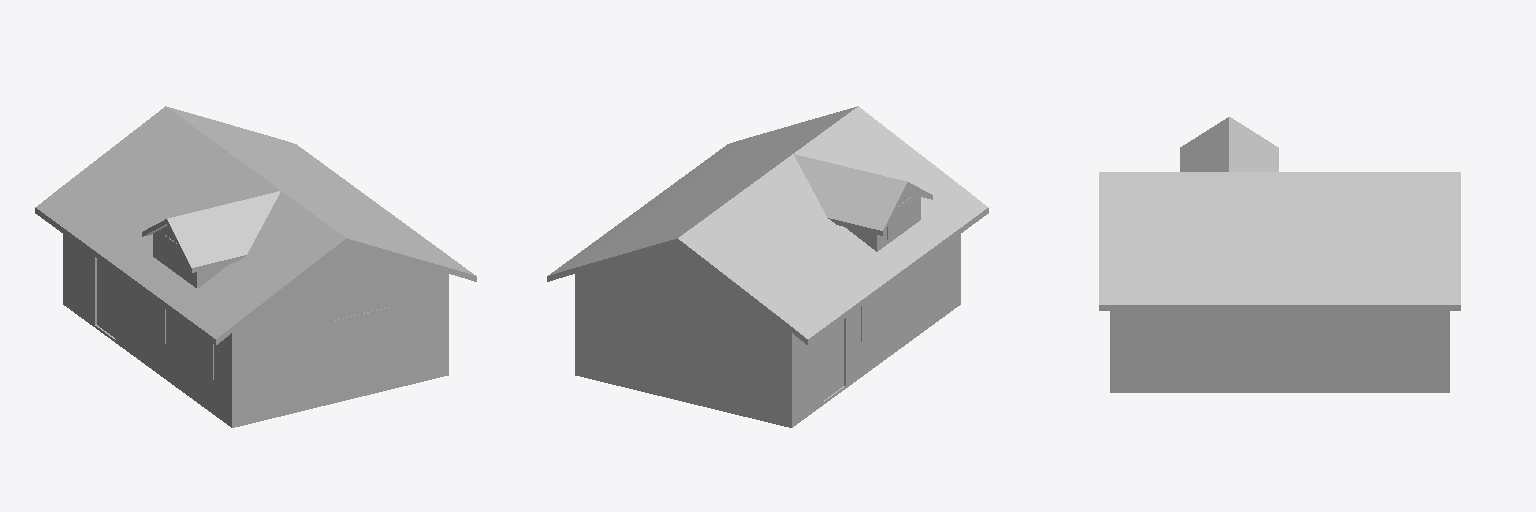
File: house.obj
3 renders of one model, left to right at view 1: azimuth 30°, elevation 25°; view 2: azimuth 150°, elevation 25°; view 3: azimuth 270°, elevation 25°, orthographic.
Visible parts, largest first — view 1: Cube; view 2: Cube; view 3: Cube.
Boxes of the visible parts, box(x1,y1,x2,y2) form: Cube: box(35, 106, 476, 427); Cube: box(547, 106, 988, 427); Cube: box(1099, 117, 1460, 392).
Size of the model in its own units: 7.09 by 4.36 by 8.52.